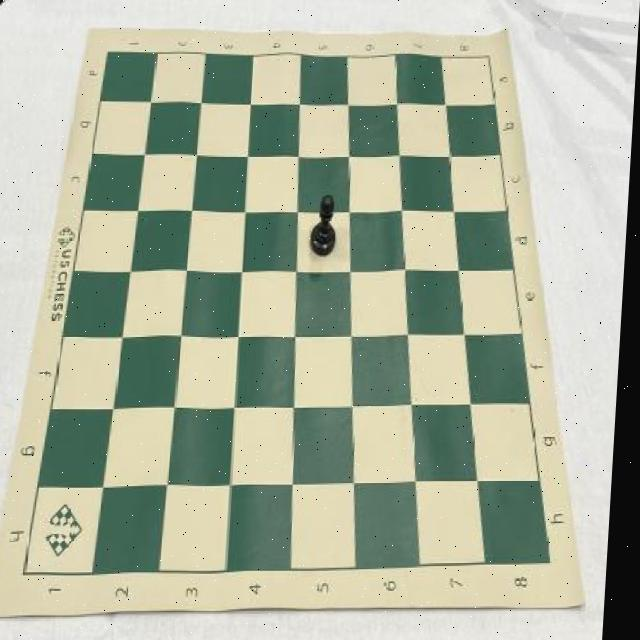black-knight: (311, 194, 342, 257)
